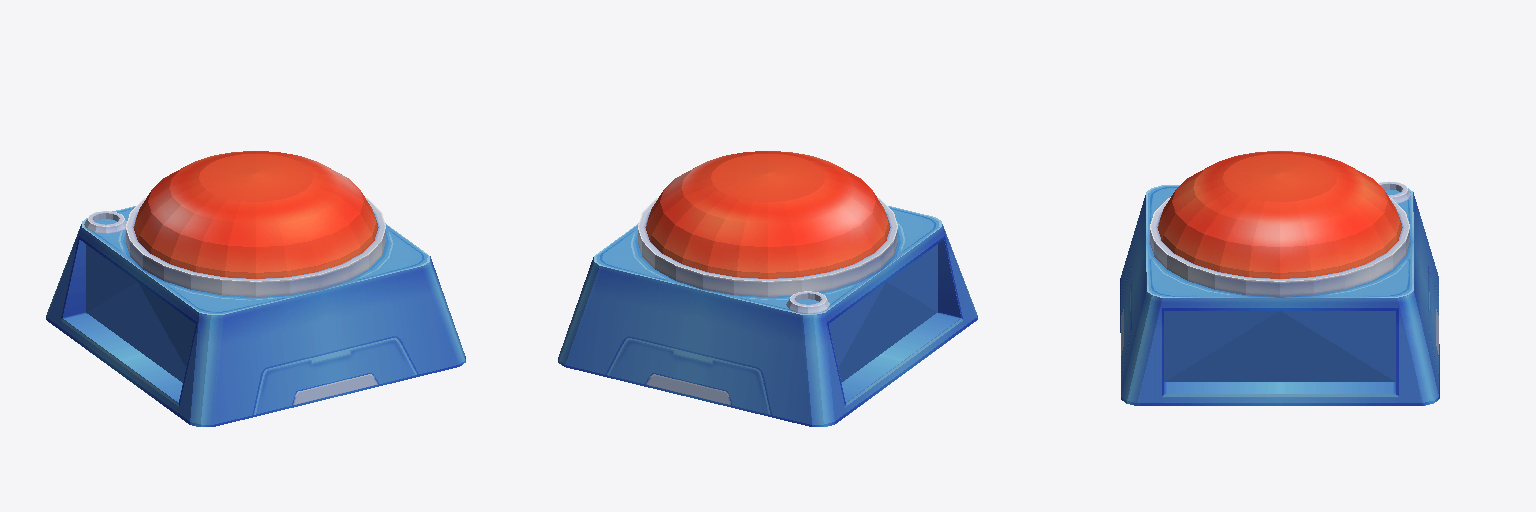
3 renders of one model, left to right at view 1: azimuth 30°, elevation 25°; view 2: azimuth 150°, elevation 25°; view 3: azimuth 270°, elevation 25°, orthographic.
Visible parts, largest first — view 1: 0936_Button, 0936_Button.001; view 2: 0936_Button, 0936_Button.001; view 3: 0936_Button, 0936_Button.001.
Boxes of the visible parts, x1,y1,x2,y2 form: 0936_Button: [46, 197, 465, 426]; 0936_Button.001: [134, 151, 377, 278]; 0936_Button: [558, 197, 977, 426]; 0936_Button.001: [646, 151, 889, 278]; 0936_Button: [1120, 181, 1439, 405]; 0936_Button.001: [1158, 151, 1401, 278].
Size of the model in its own units: 0.0668 by 0.0382 by 0.0668.
Materials: 2 (1 with a texture image).